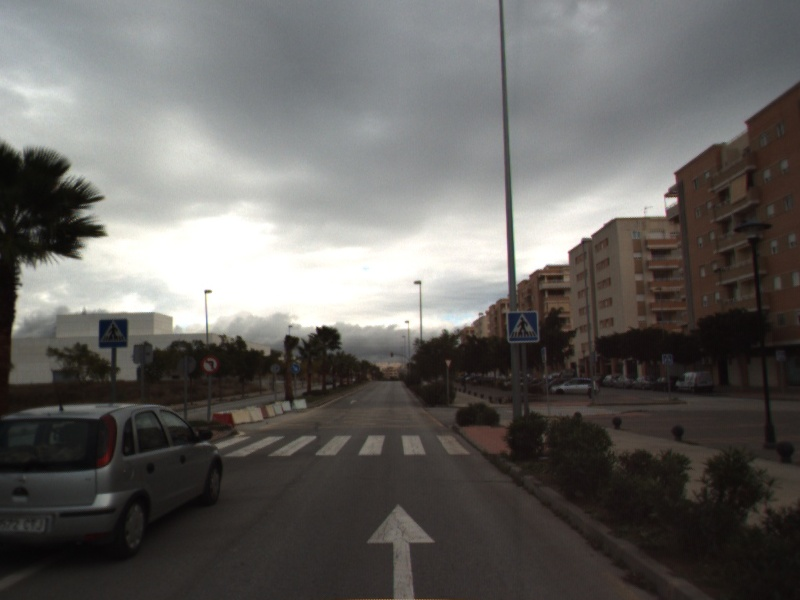STRAIGHT: (364, 501, 438, 600)
